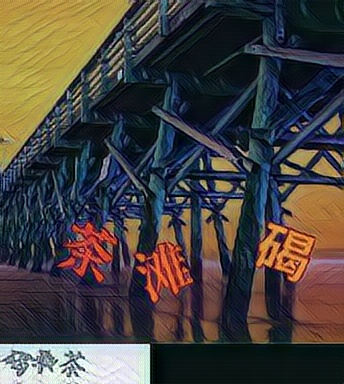B2E8: (57, 218, 120, 285)
CCB2: (134, 238, 197, 305)
EDD9: (252, 218, 315, 285)
